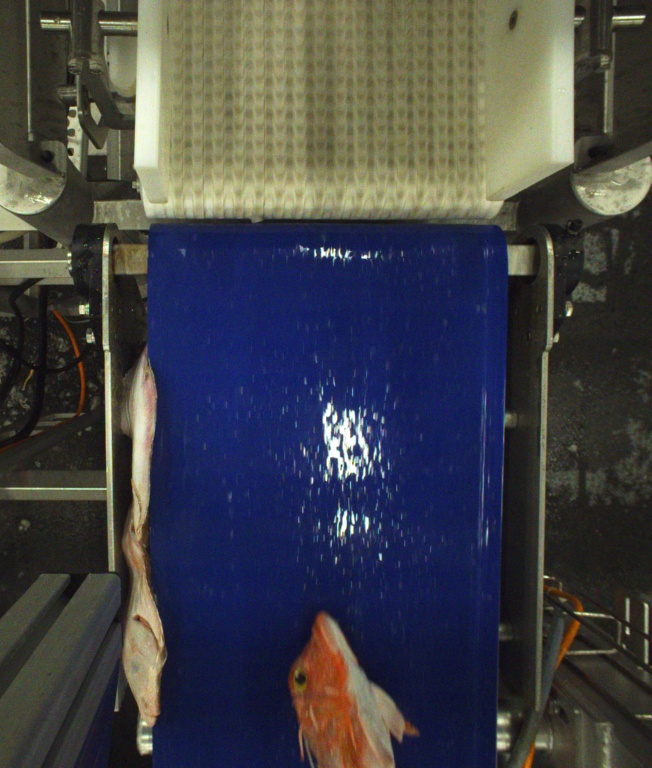GUU: (290, 611, 401, 768)
